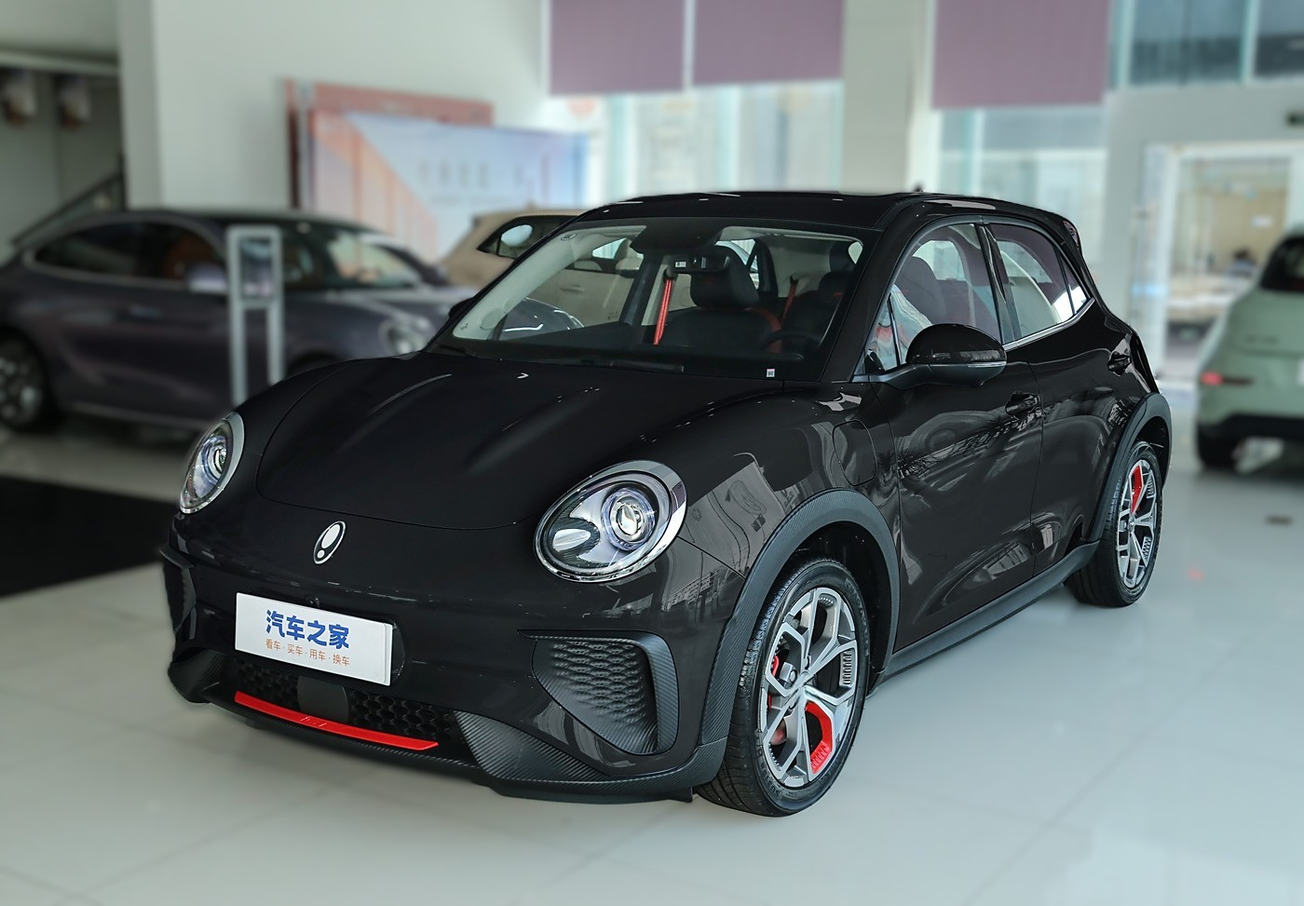ORA: (314, 521, 345, 563)
